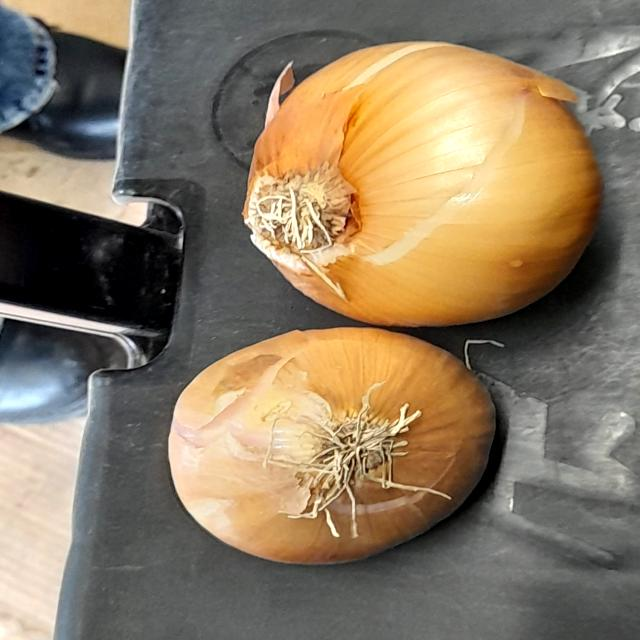onion: (225, 31, 613, 336), (125, 318, 529, 575)
